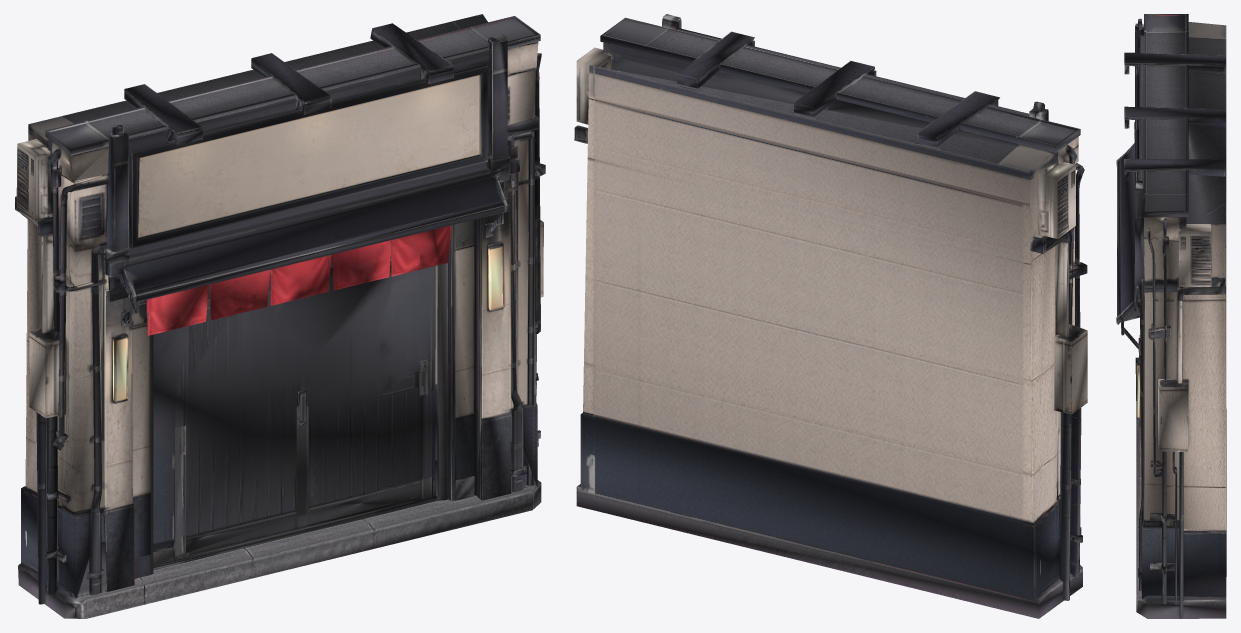
The model's file is shop_facade.glb.
3 views of the same model, side by side, from view 1: azimuth 30°, elevation 25°; view 2: azimuth 150°, elevation 25°; view 3: azimuth 270°, elevation 25° (orthographic). The views are drawn at different scales.
Parts seen in each view (by area): view 1: Mesh_0; view 2: Mesh_0; view 3: Mesh_0.
Part boxes in pixels (x1,y1,x2,y2): Mesh_0: (15, 14, 545, 618); Mesh_0: (574, 14, 1087, 618); Mesh_0: (1116, 14, 1226, 618).
Size of the model in its own units: 5.4 by 5.01 by 1.2.
1 material, 1 textured.
